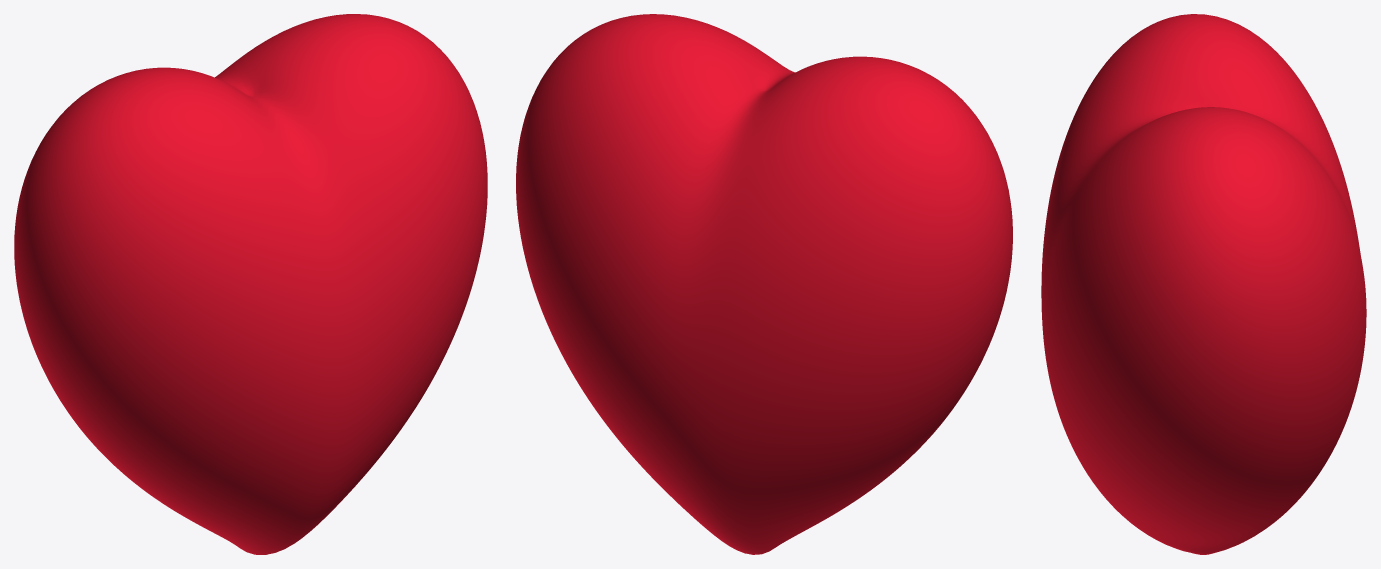
File: heart.glb
The picture shows the model from 3 angles, left to right: view 1: azimuth 30°, elevation 25°; view 2: azimuth 150°, elevation 25°; view 3: azimuth 270°, elevation 25°; orthographic projection. The views are drawn at different scales.
Visible parts, largest first — view 1: Heart; view 2: Heart; view 3: Heart.
Boxes of the visible parts, x1,y1,x2,y2 form: Heart: (14, 14, 487, 554); Heart: (516, 14, 1012, 554); Heart: (1041, 14, 1366, 554).
Bounding box in the file's own units: 0.9411 × 1 × 0.6122.
